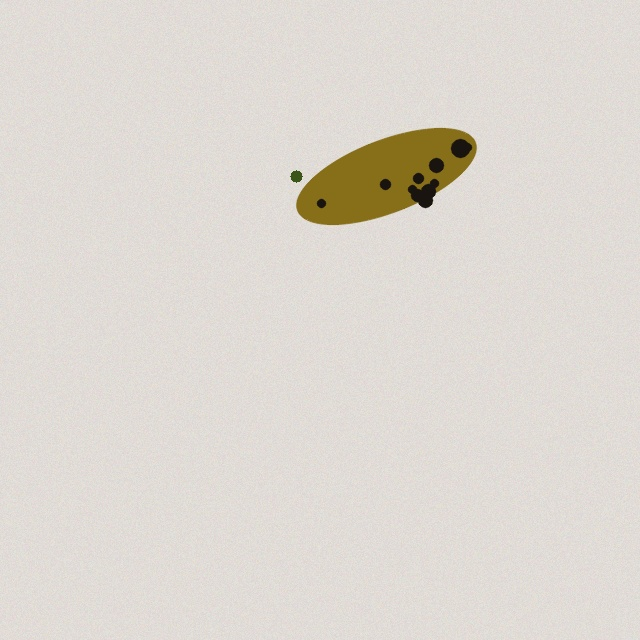Rotten banana: (287, 131, 485, 221)
